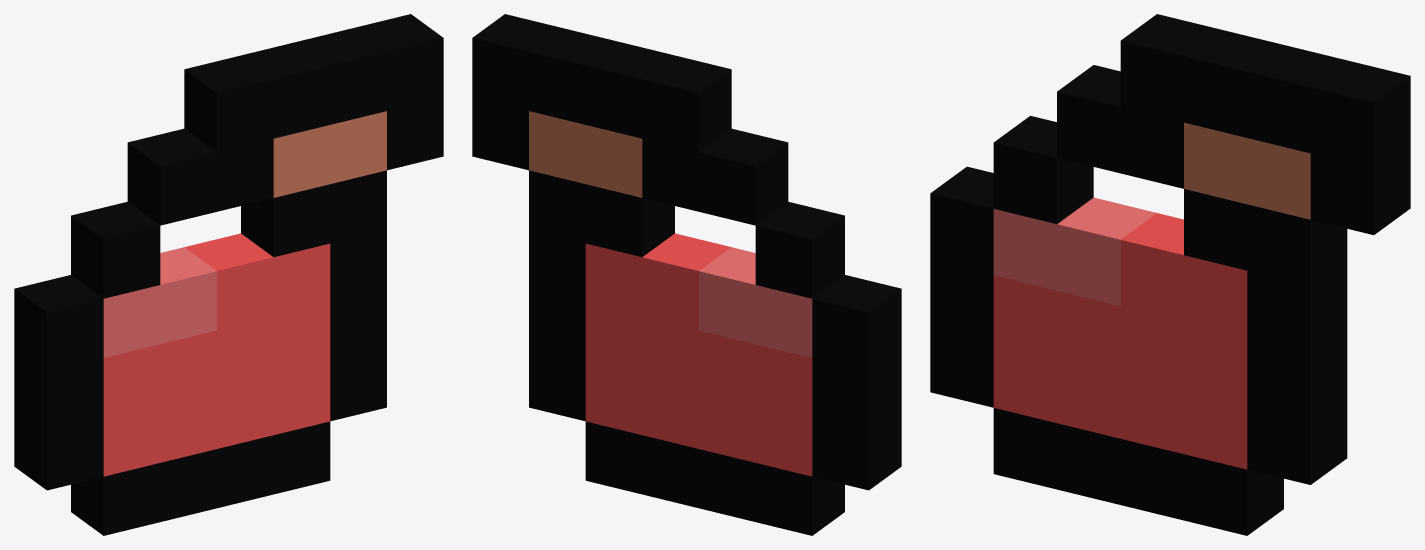
Rendered from Splash Regeneration Potion.glb.
The picture shows the model from 3 angles, left to right: view 1: azimuth 30°, elevation 25°; view 2: azimuth 150°, elevation 25°; view 3: azimuth 330°, elevation 25°; orthographic projection. The views are drawn at different scales.
Parts seen in each view (by area): view 1: generated(Clone); view 2: generated(Clone); view 3: generated(Clone).
Part boxes in pixels (x1,y1,x2,y2): generated(Clone): (14, 14, 443, 535); generated(Clone): (472, 14, 901, 535); generated(Clone): (930, 14, 1410, 535).
Bounding box in the file's own units: 7 × 7 × 1.
1 material, 1 textured.
